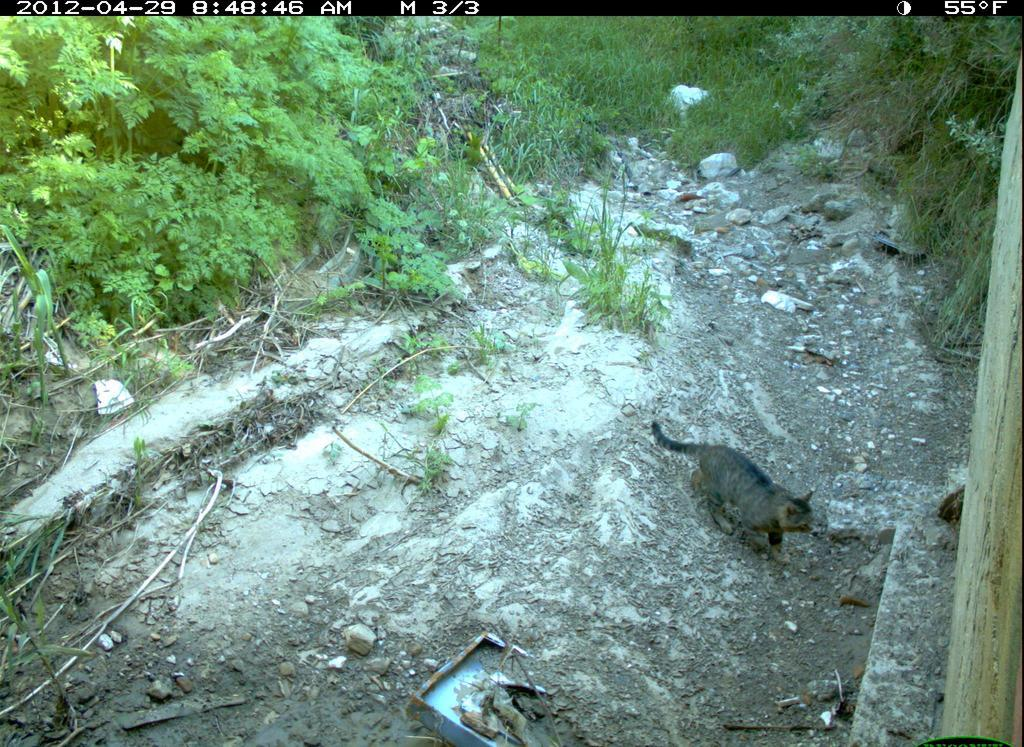cat: (521, 295, 1022, 694)
